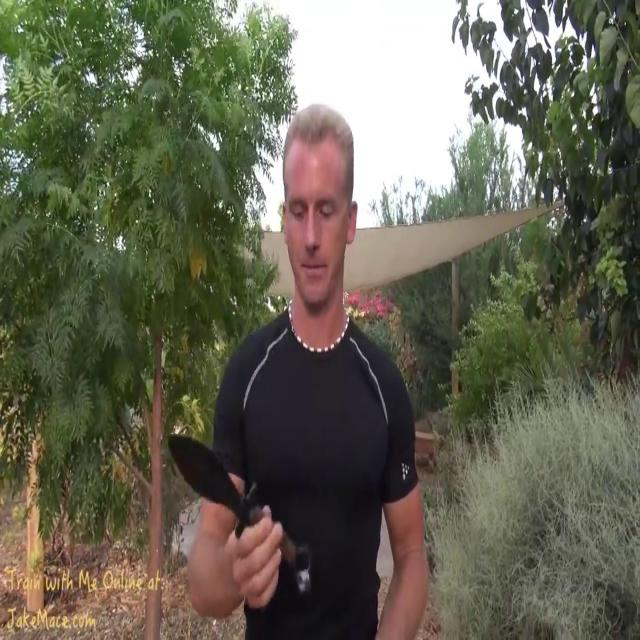knife: (152, 408, 330, 611)
